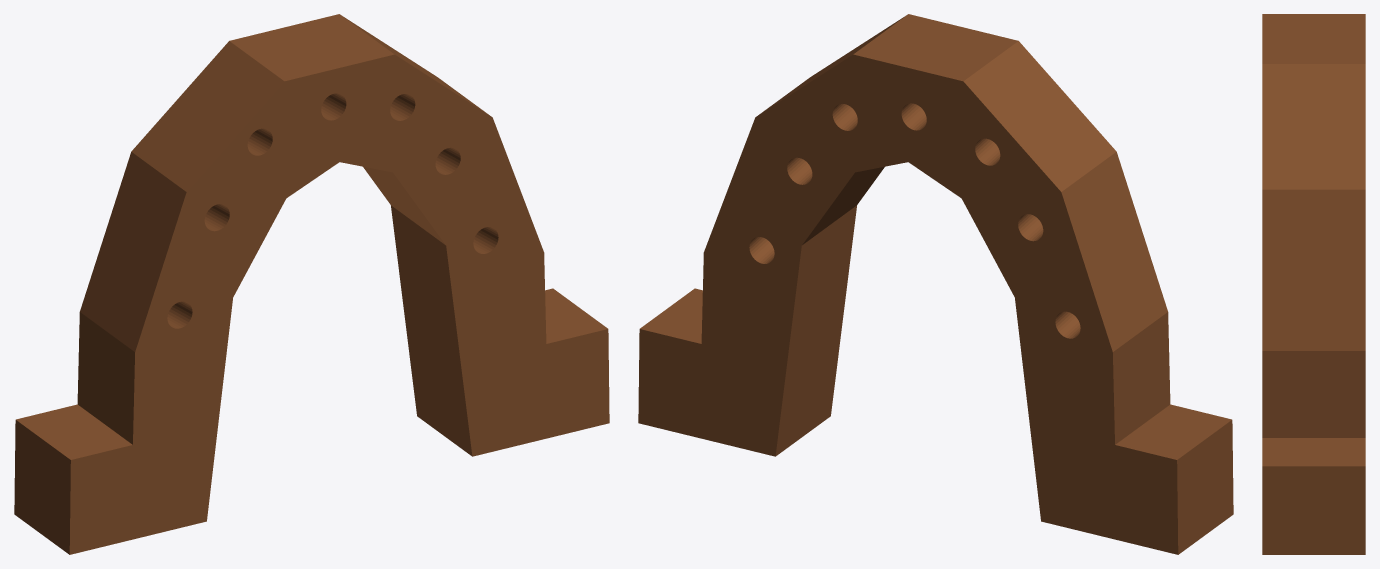
File: bronze_horseshoe.glb
3 views of the same model, side by side, from view 1: azimuth 30°, elevation 25°; view 2: azimuth 150°, elevation 25°; view 3: azimuth 270°, elevation 25° (orthographic). The views are drawn at different scales.
Visible parts, largest first — view 1: Cube; view 2: Cube; view 3: Cube.
Boxes of the visible parts, bbox=[...] form: Cube: bbox=[14, 14, 609, 554]; Cube: bbox=[638, 14, 1233, 554]; Cube: bbox=[1262, 14, 1365, 554].
Size of the model in its own units: 3.38 by 2.52 by 0.6.
